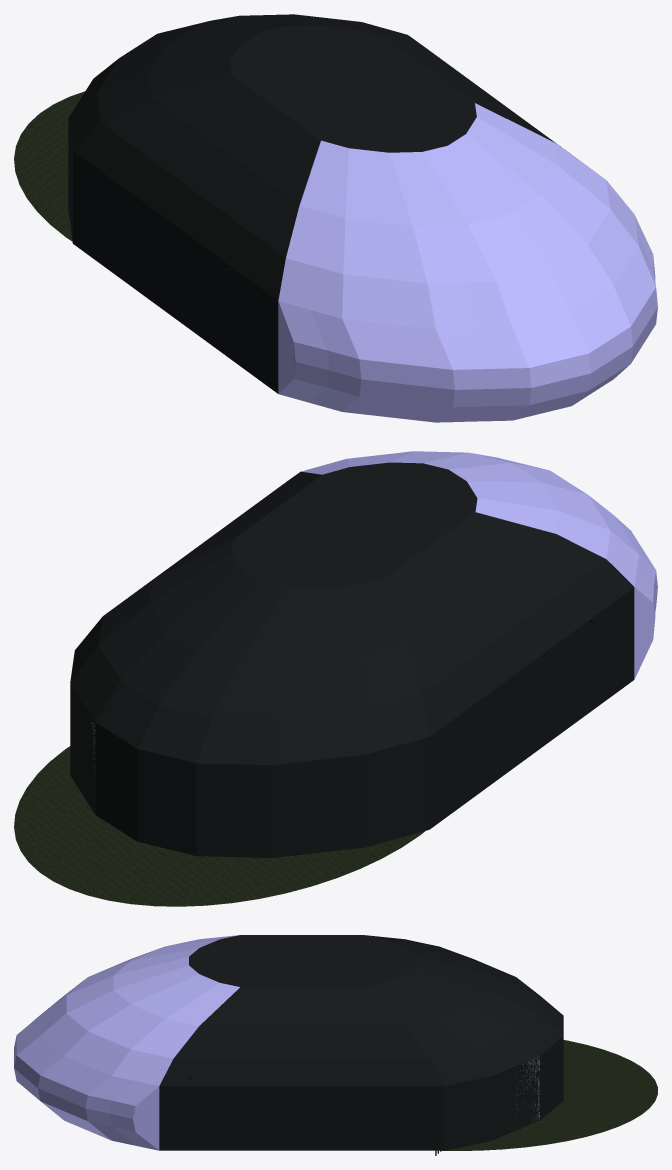
Rendered from ready.fbx.
The picture shows the model from 3 angles, top to bottom: view 1: azimuth 30°, elevation 25°; view 2: azimuth 150°, elevation 25°; view 3: azimuth 270°, elevation 25°; orthographic projection. The views are drawn at different scales.
Parts seen in each view (by area): view 1: Roof out, AlienshipHull Out, Cylinder001; view 2: Roof out, AlienshipHull Out, Cylinder001; view 3: Roof out, AlienshipHull Out, Cylinder001.
Boxes of the visible parts, <box> form: Roof out: <box>68,14,638,329</box>; AlienshipHull Out: <box>68,120,657,422</box>; Cylinder001: <box>14,91,84,241</box>; Roof out: <box>70,451,638,765</box>; AlienshipHull Out: <box>70,515,657,857</box>; Cylinder001: <box>14,746,424,906</box>; Roof out: <box>40,935,563,1085</box>; AlienshipHull Out: <box>14,999,563,1150</box>; Cylinder001: <box>440,1040,657,1150</box>.
Bounding box in the file's own units: 483 × 248 × 1066.
14 materials, 1 textured.
